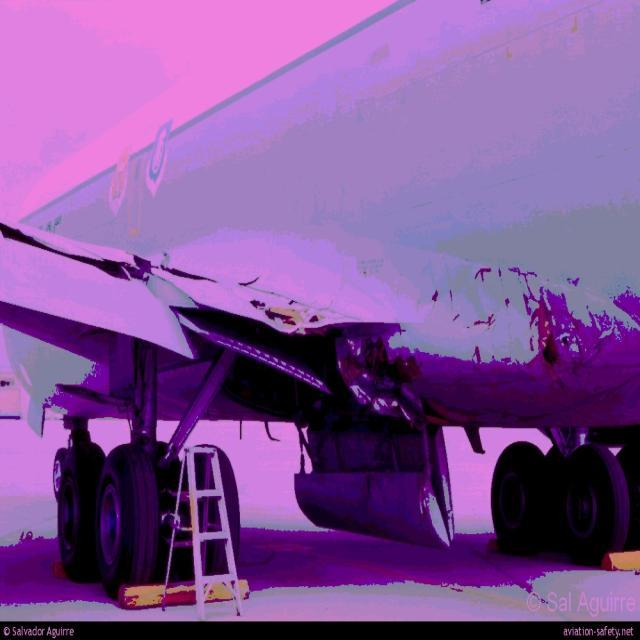dent: (447, 261, 490, 324)
